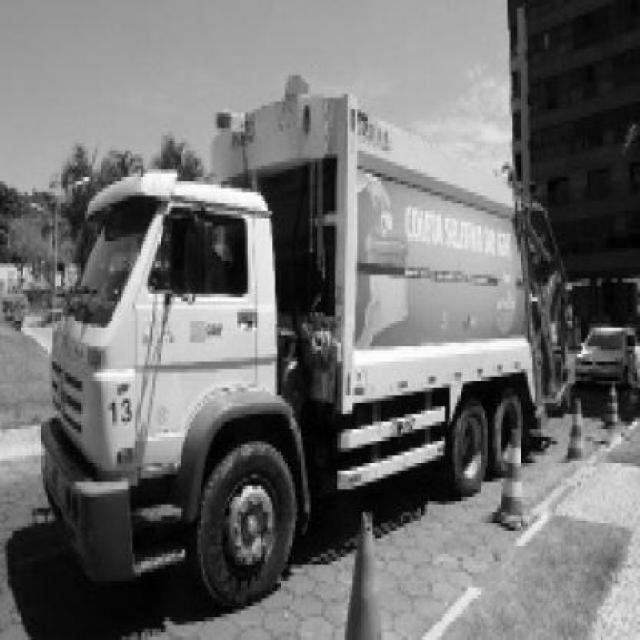Garbage Truck: (38, 75, 570, 613)
